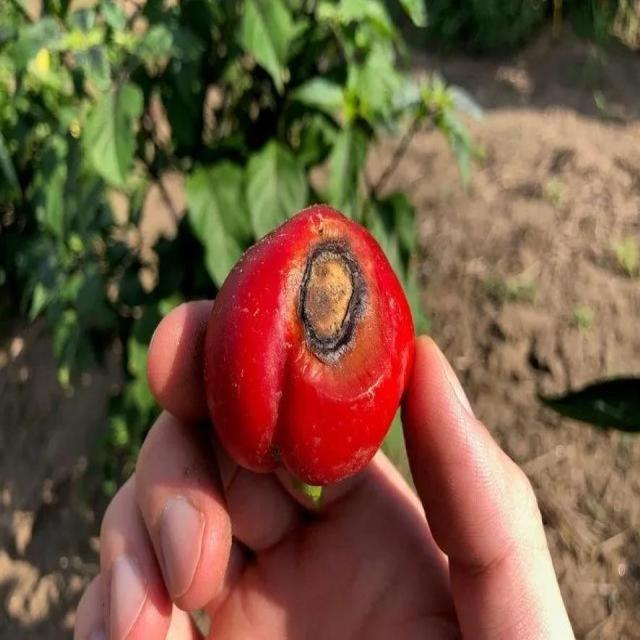Blossom End Rot Fruit: (196, 148, 244, 244)
